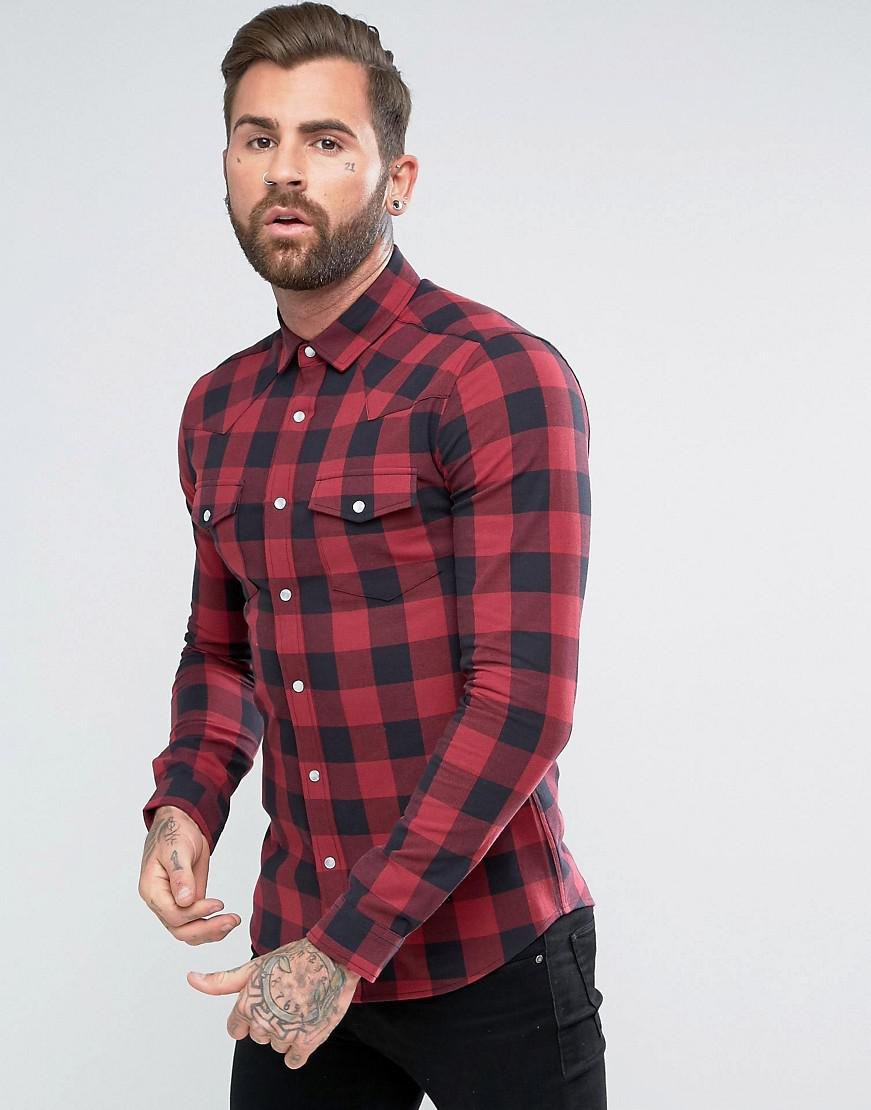teeshirt: (146, 278, 629, 1007)
